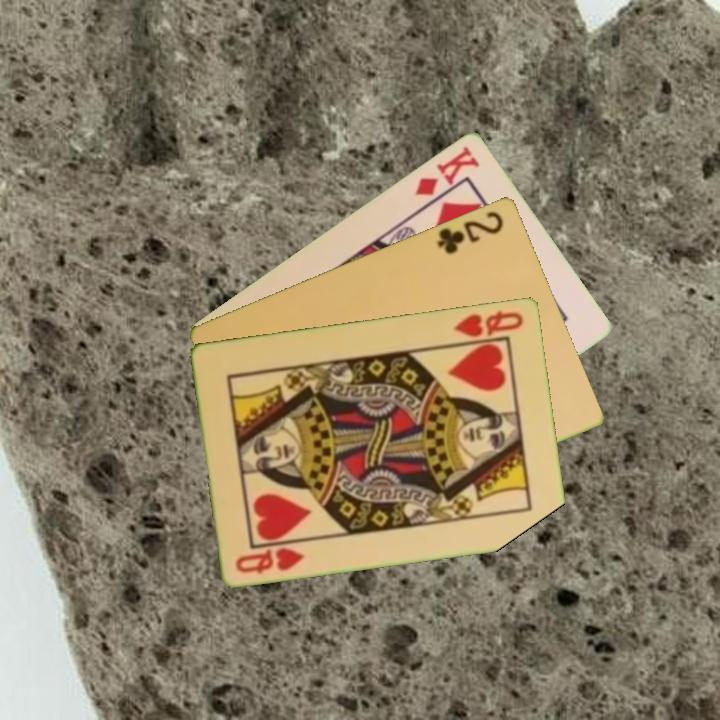2c: (433, 207, 507, 257)
Kd: (411, 141, 483, 198)
Qh: (232, 543, 308, 577), (451, 307, 526, 340)
